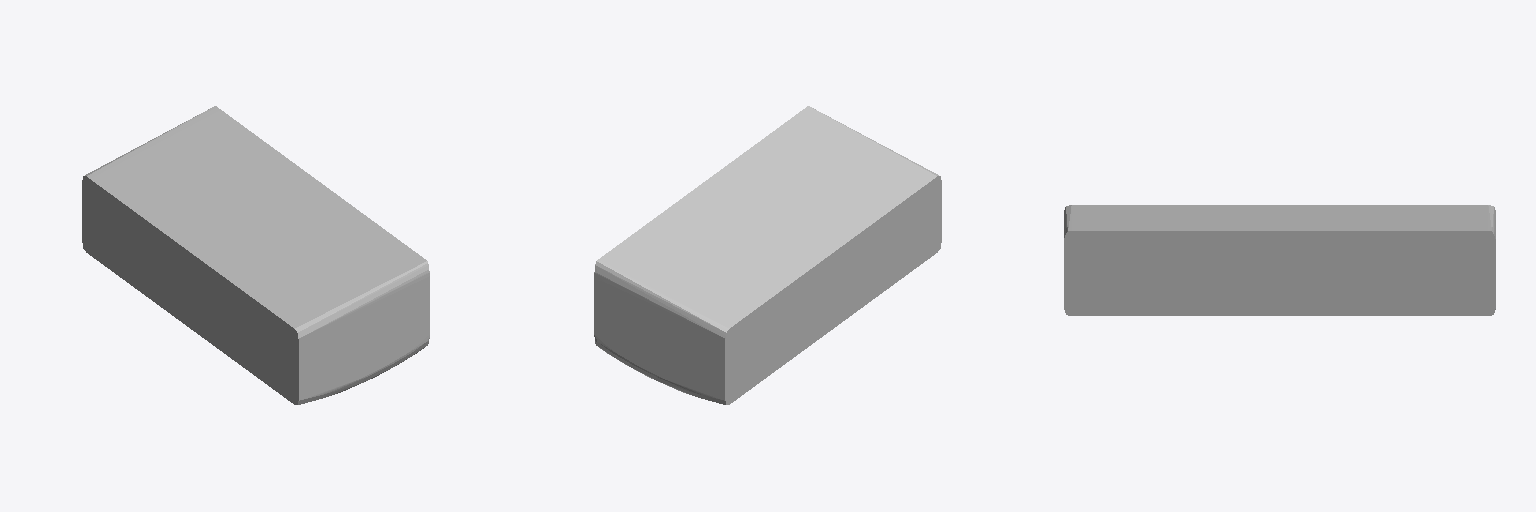
Rendered from Cylinder_with_Hole_collision_0.obj.
3 views of the same model, side by side, from view 1: azimuth 30°, elevation 25°; view 2: azimuth 150°, elevation 25°; view 3: azimuth 270°, elevation 25° (orthographic).
Size of the model in its own units: 49.97 by 41.33 by 143.